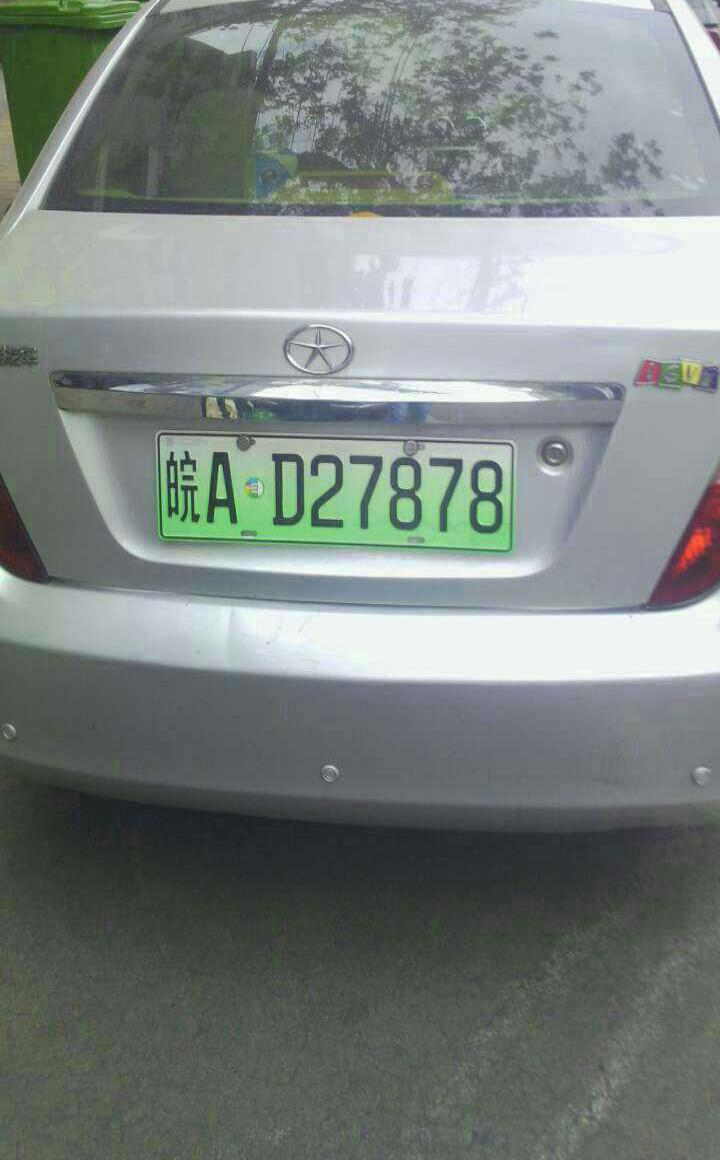car: (151, 429, 520, 554)
